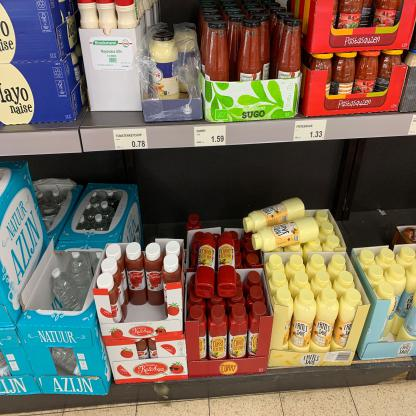prtg: (114, 129, 149, 151), (294, 121, 328, 143), (195, 127, 227, 147)
